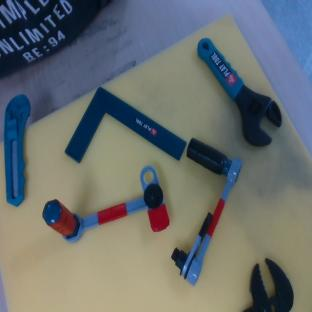non_pass: (140, 137, 245, 285)
pass: (38, 164, 174, 264)
